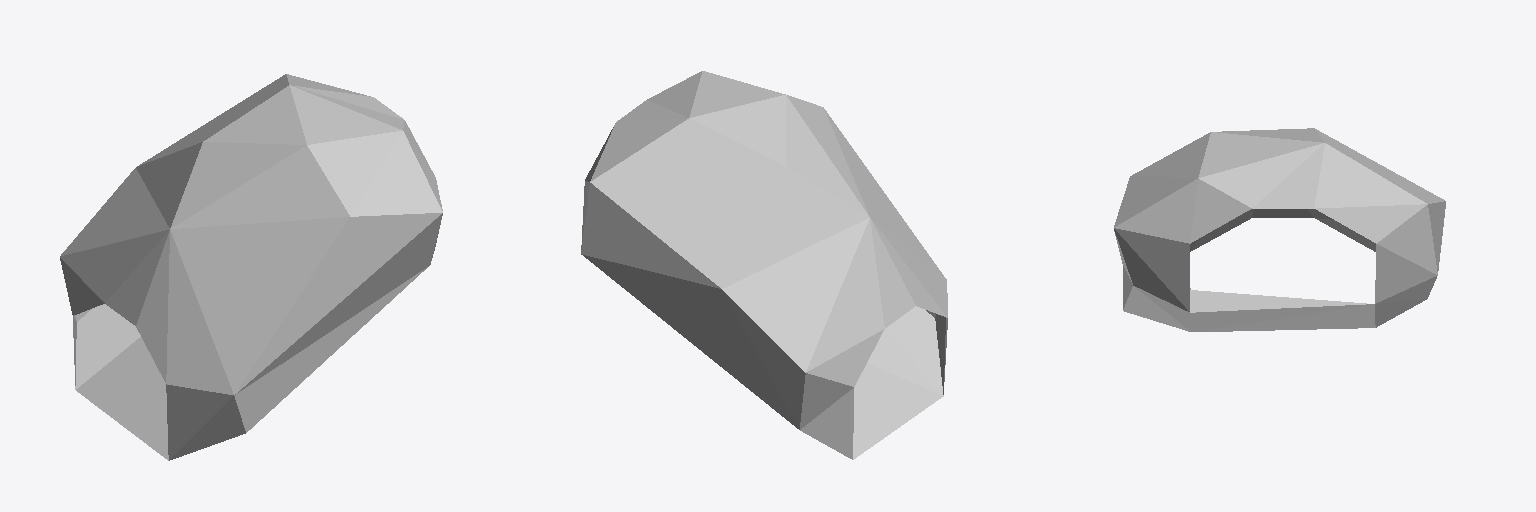
Rendered from Mesh_CavePack_Slope_Short_lod2.obj.
The picture shows the model from 3 angles: view 1: azimuth 30°, elevation 25°; view 2: azimuth 150°, elevation 25°; view 3: azimuth 270°, elevation 25°; orthographic projection.
Parts seen in each view (by area): view 1: Plane; view 2: Plane; view 3: Plane.
Part boxes in pixels (x1,y1,x2,y2): Plane: (60,74,442,460); Plane: (581,71,947,459); Plane: (1114,128,1445,331).
Size of the model in its own units: 16.05 by 15.98 by 17.14.